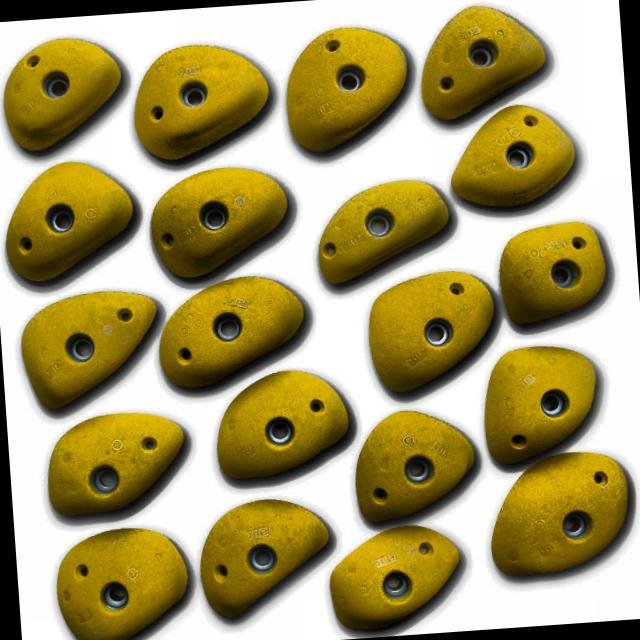Hold: (486, 448, 634, 588), (154, 270, 310, 398), (128, 41, 276, 166), (7, 156, 140, 294), (282, 22, 414, 157), (198, 496, 336, 625), (20, 286, 162, 409), (366, 268, 500, 396), (148, 166, 300, 278), (349, 399, 482, 526), (51, 526, 196, 640), (1, 29, 130, 155), (422, 0, 551, 126), (477, 338, 602, 466), (329, 522, 467, 634), (43, 412, 188, 516), (315, 176, 454, 284), (213, 373, 349, 481), (454, 102, 584, 210), (502, 220, 610, 324)
